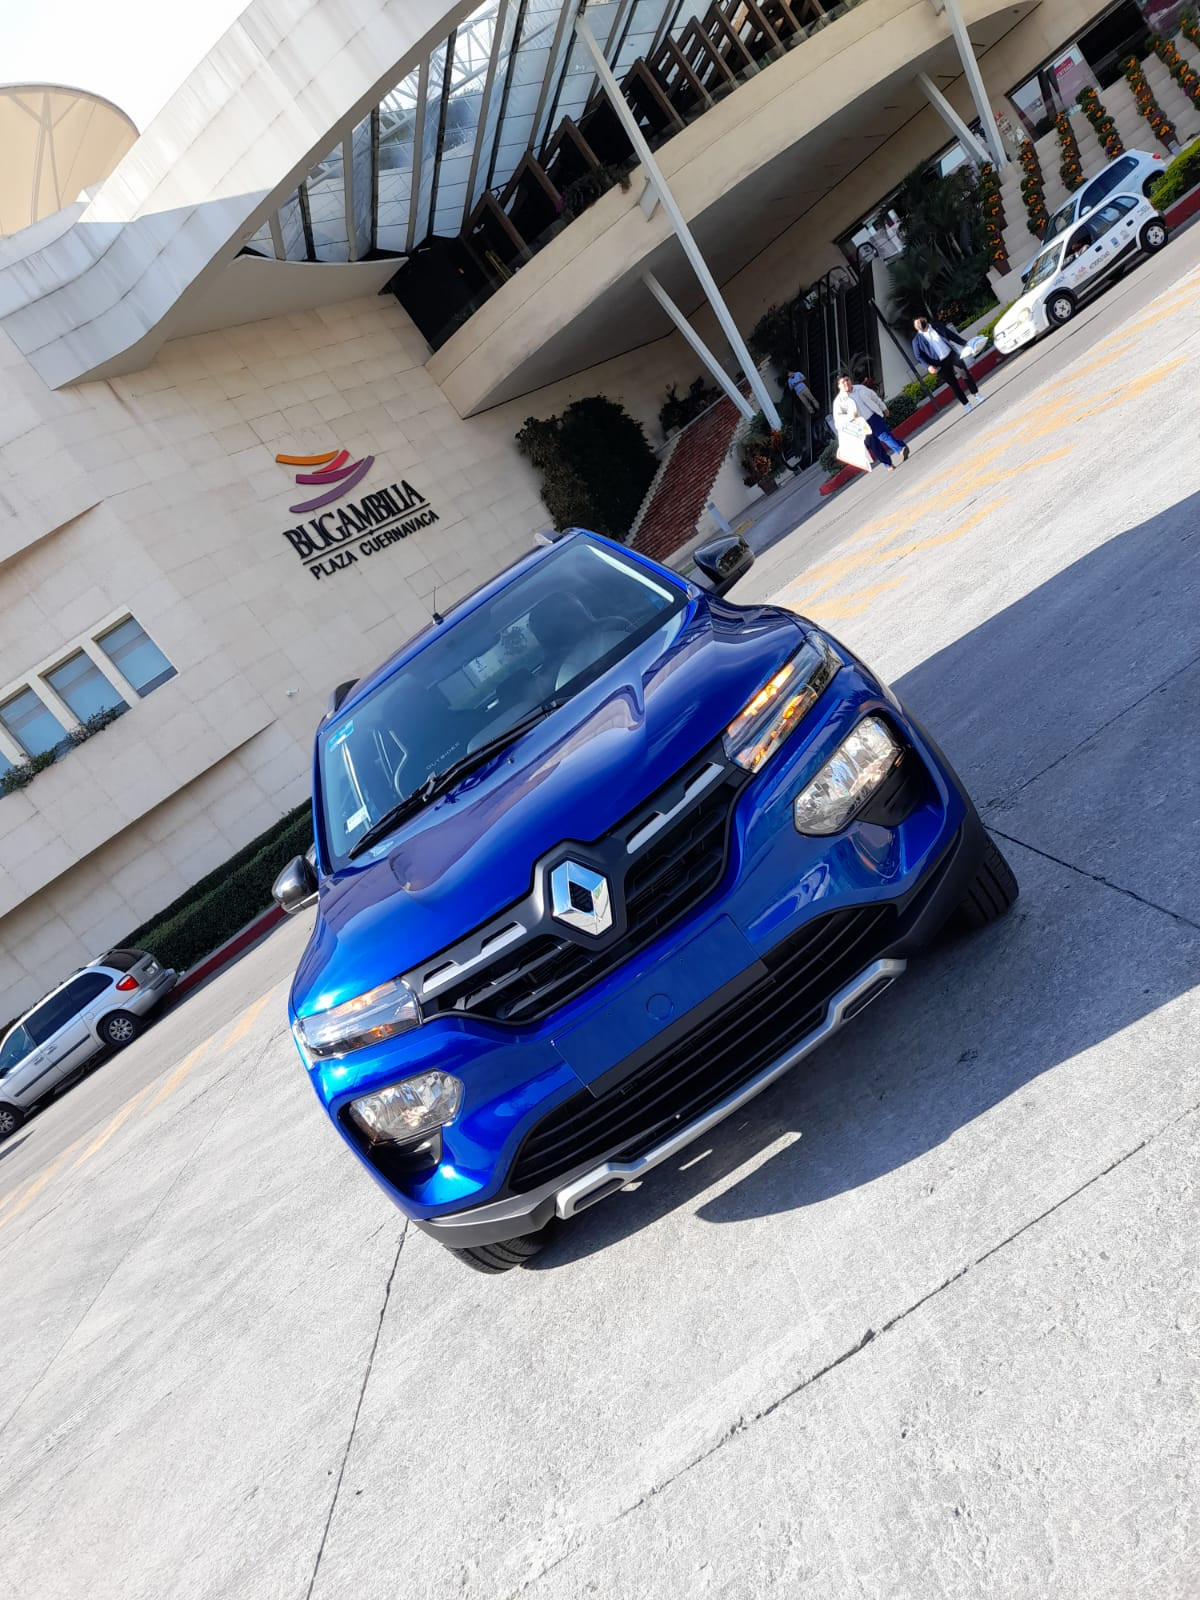Auto: (272, 509, 1021, 1275), (1, 944, 182, 1143), (987, 191, 1167, 368)
